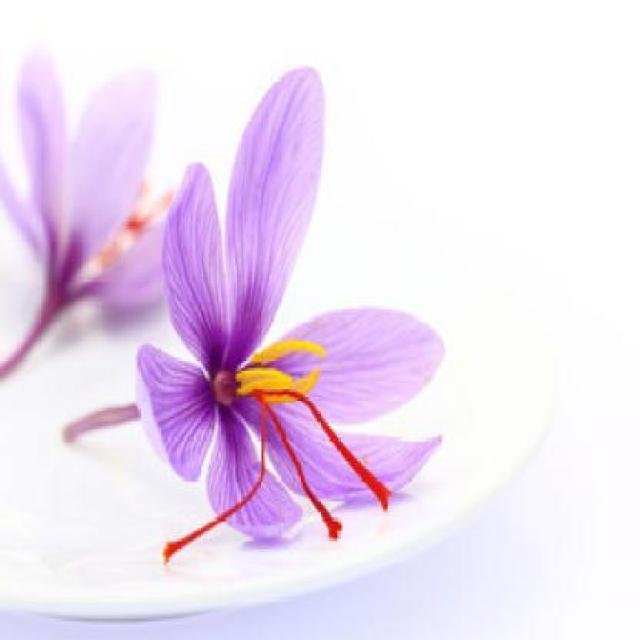Flower: (135, 62, 450, 549), (0, 48, 211, 309)
stigma: (158, 391, 269, 568), (261, 387, 399, 516), (257, 393, 348, 543)
